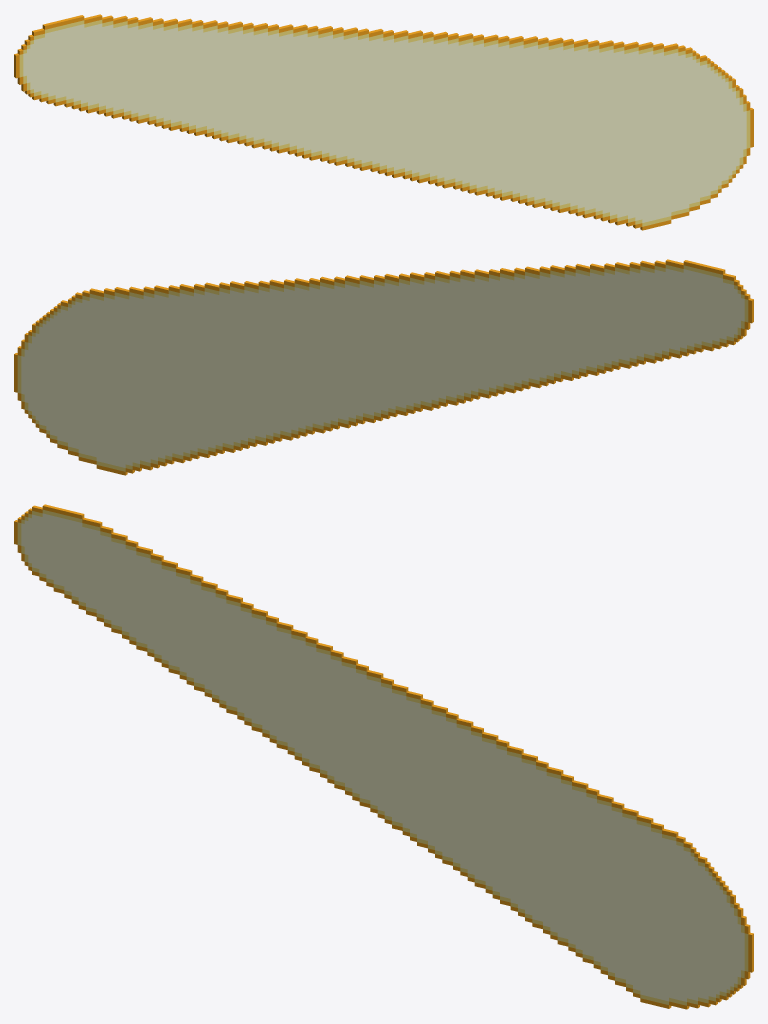
Rendered from Fight_732_2_08_fx.obj.
3 renders of one model, top to bottom at view 1: azimuth 30°, elevation 25°; view 2: azimuth 150°, elevation 25°; view 3: azimuth 330°, elevation 25°, orthographic.
Bounding box in the file's own units: 20.5 × 9.3 × 0.1.
